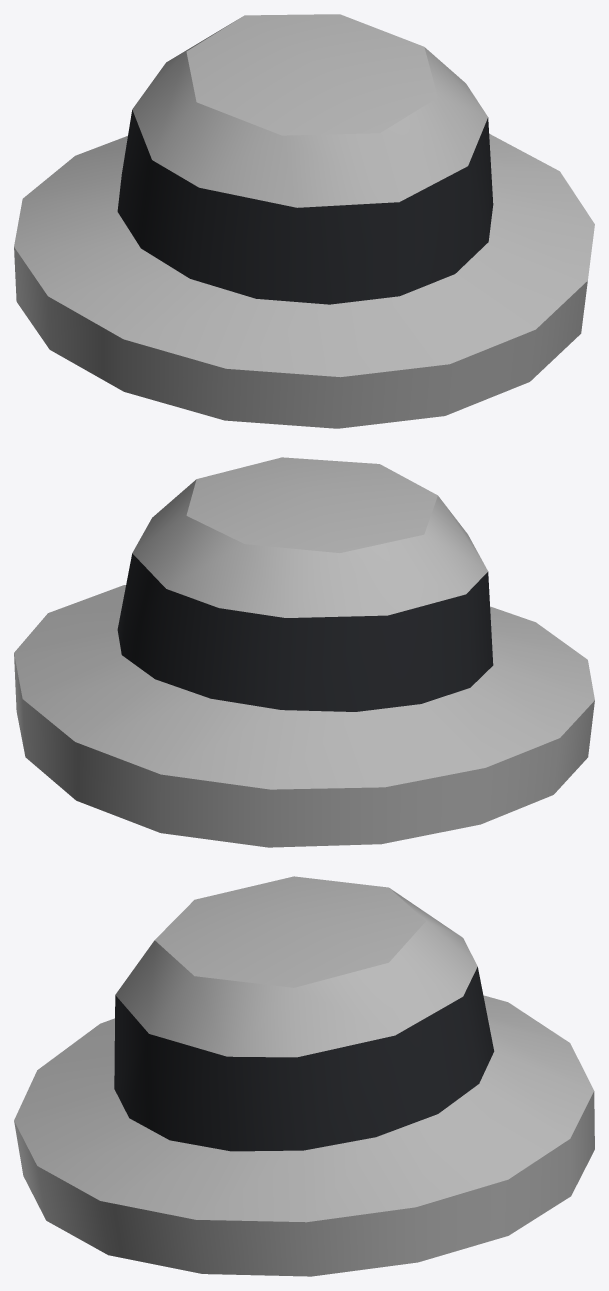
The model's file is Gipsy_Hat_05.fbx.
3 renders of one model, top to bottom at view 1: azimuth 30°, elevation 25°; view 2: azimuth 150°, elevation 25°; view 3: azimuth 270°, elevation 25°, orthographic.
Visible parts, largest first — view 1: Gipsy_Hat_05; view 2: Gipsy_Hat_05; view 3: Gipsy_Hat_05.
Boxes of the visible parts, x1,y1,x2,y2 form: Gipsy_Hat_05: (14, 14, 594, 428); Gipsy_Hat_05: (14, 457, 594, 847); Gipsy_Hat_05: (14, 876, 594, 1276).
Bounding box in the file's own units: 64.55 × 30.9 × 63.2.
